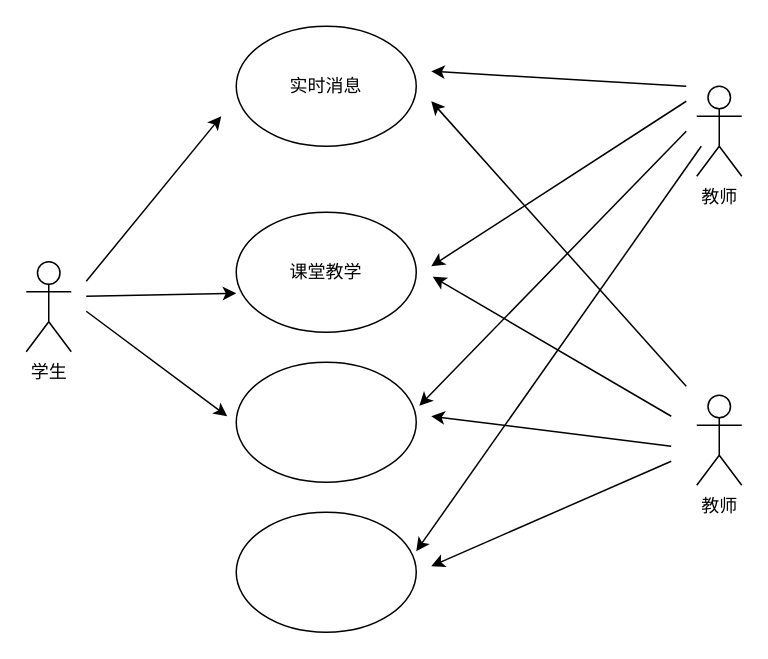
Image size: 768x659. Some labels were removed from this diagram. Here are the shapes that lost their labels. From the top down, the centre of each, then its label:
pixel 325 421: 课堂测试
pixel 325 571: 班级管理
